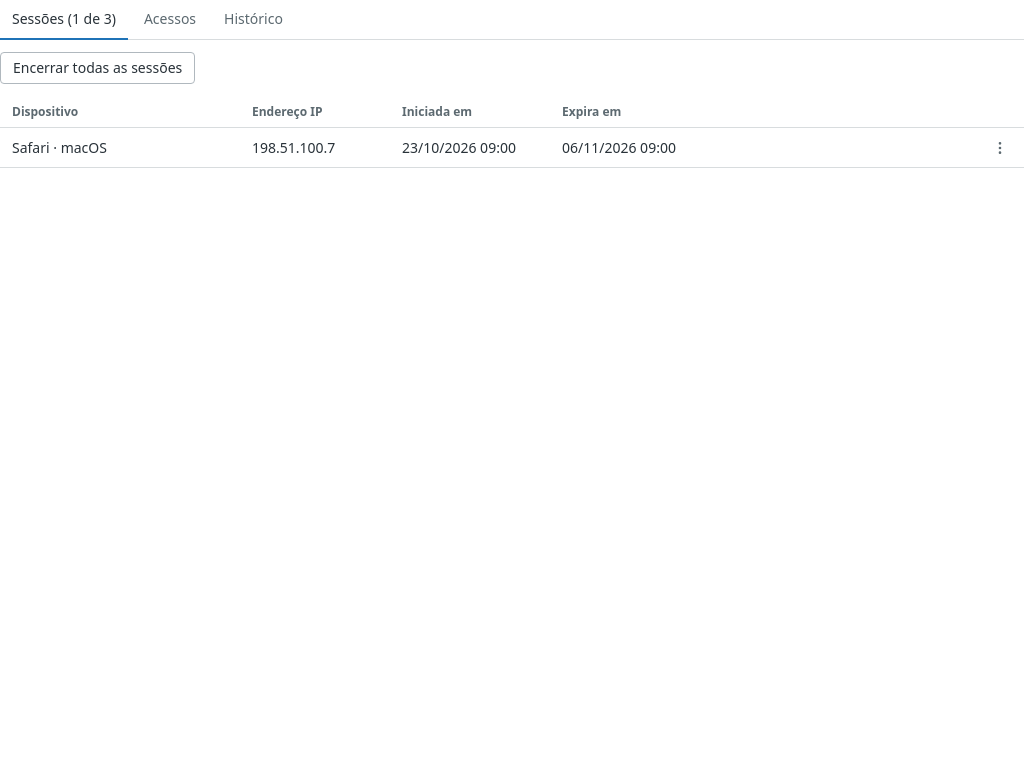
Componente do administrador sobre outro usuário › lista sessões, encerra uma e todas
This screenshot has width=1024, height=768.
Check: the text "Safari · macOS" is shown, box [12,138,107,156]
Check: the tab "Sessões (1 de 3)" is shown, box [0,0,128,40]
Click the button "Encerrar todas as sessões": {"x": 98, "y": 68} [0,52,195,84]
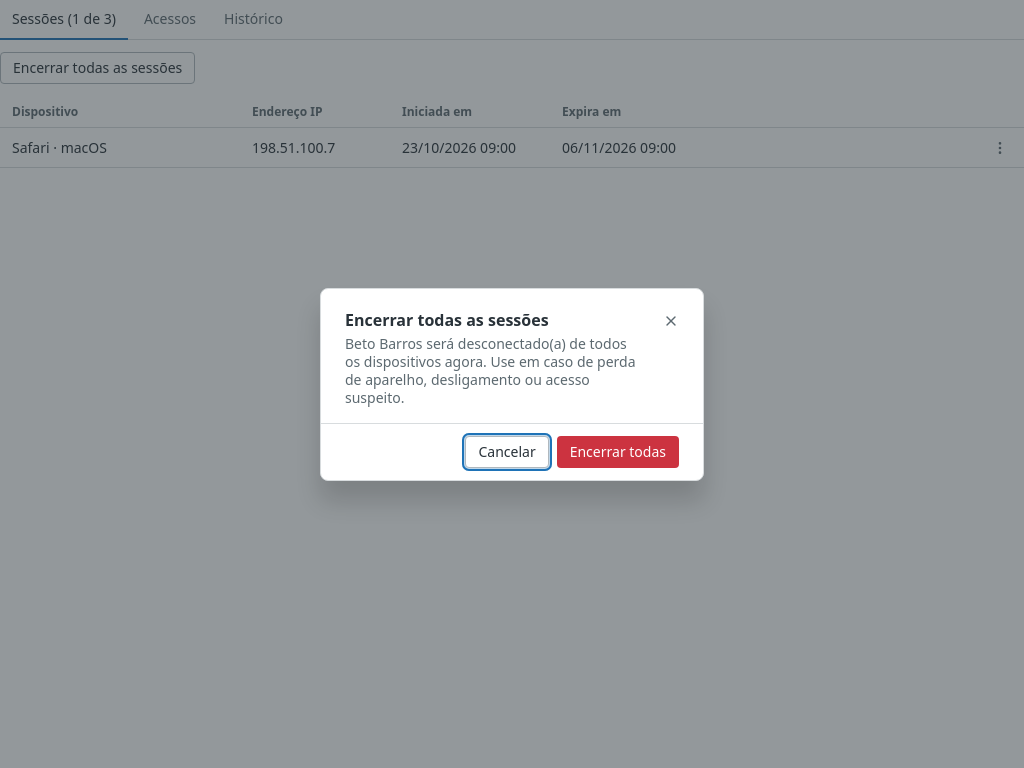
Check: the text "será desconectado(a) de todos os dispositivos" is shown, box [345,334,636,406]
Click the button "Encerrar todas": {"x": 618, "y": 452} [557,436,679,468]
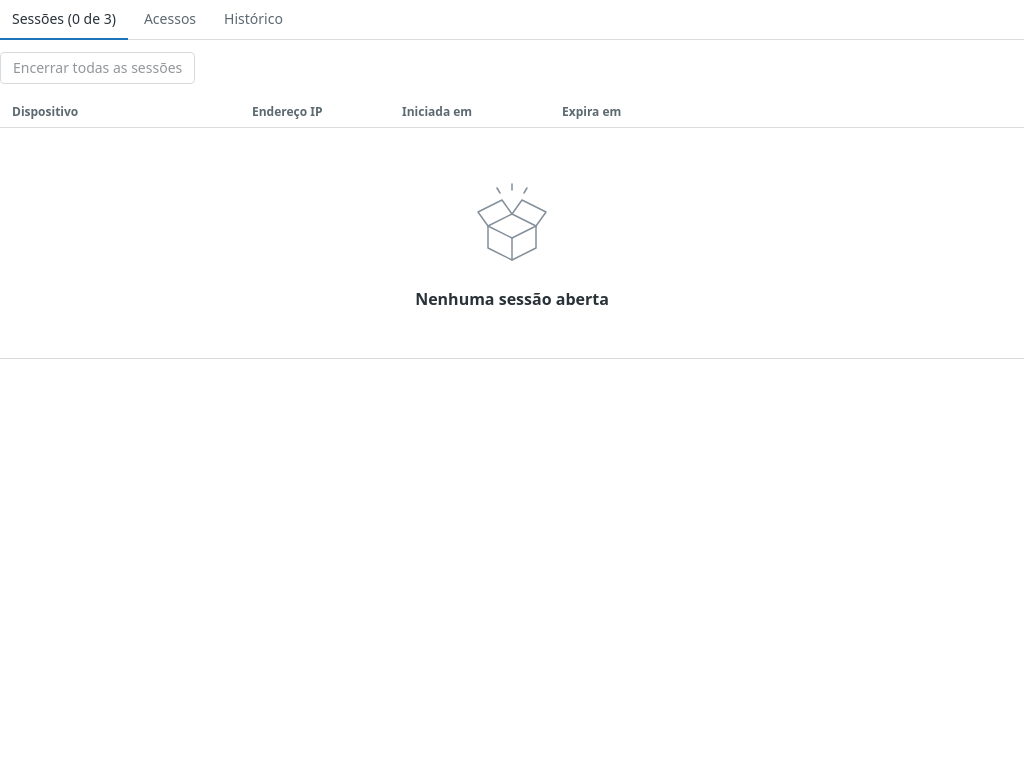
Check: the text "Nenhuma sessão aberta" is shown, box [415,288,609,310]
